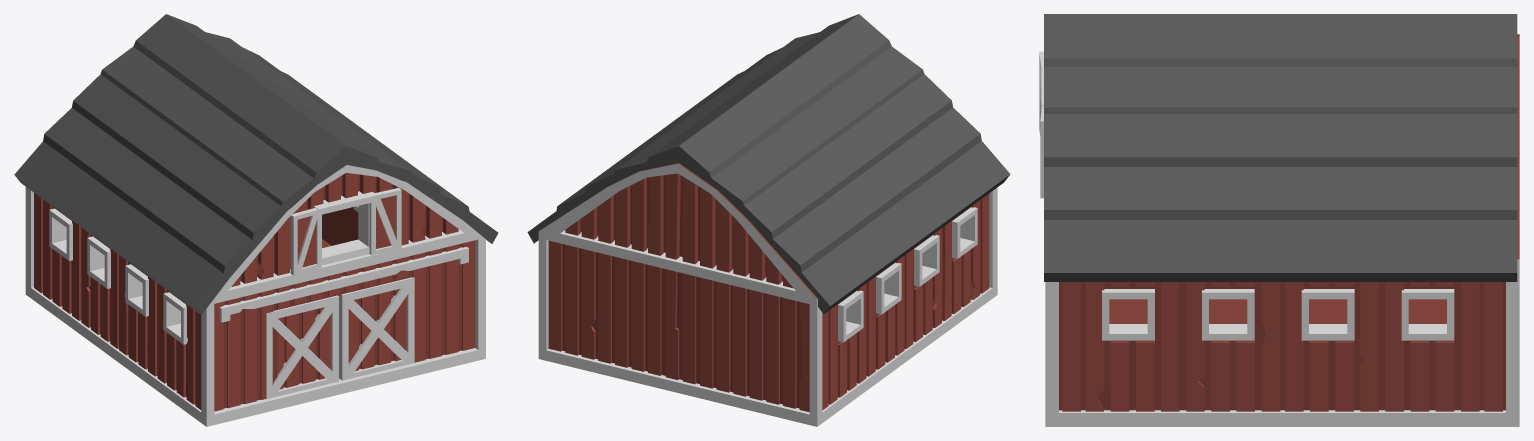
Rendered from barn_lev1.glb.
3 renders of one model, left to right at view 1: azimuth 30°, elevation 25°; view 2: azimuth 150°, elevation 25°; view 3: azimuth 270°, elevation 25°, orthographic. The views are drawn at different scales.
Visible parts, largest first — view 1: barn_lev1; view 2: barn_lev1; view 3: barn_lev1.
Part boxes in pixels (left/top/right/bottom): barn_lev1: left=14, top=14, right=498, bottom=426; barn_lev1: left=527, top=14, right=1010, bottom=426; barn_lev1: left=1039, top=14, right=1519, bottom=426.
Size of the model in its own units: 7.73 by 6.01 by 8.08.
